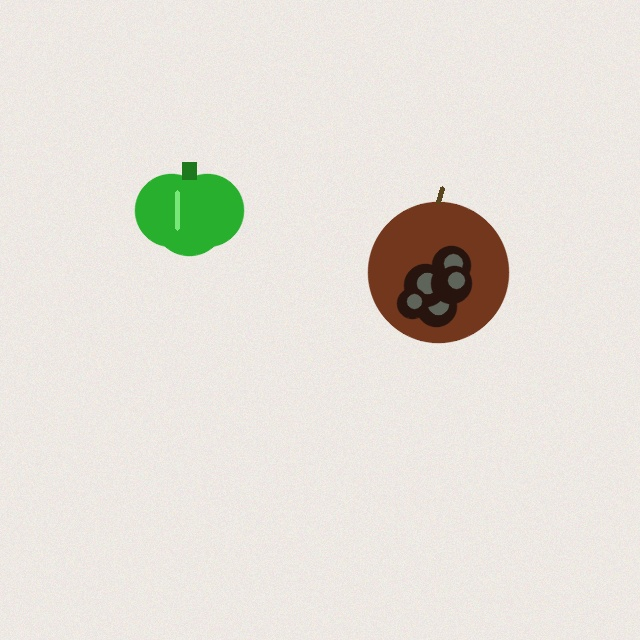Fresh bell pepper: (135, 162, 243, 255)
Rotten apple: (368, 188, 508, 342)
